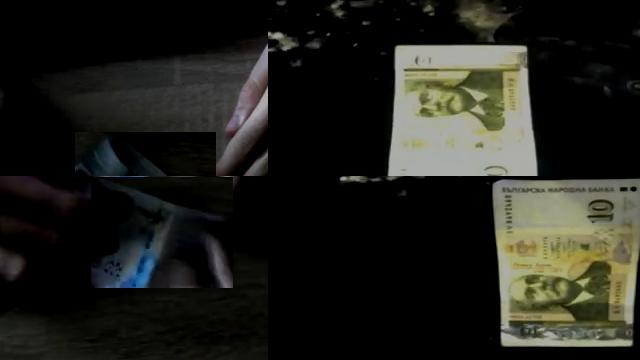10leva: (490, 176, 640, 347), (405, 64, 509, 136), (473, 162, 523, 176)
20leva: (91, 177, 233, 288)
